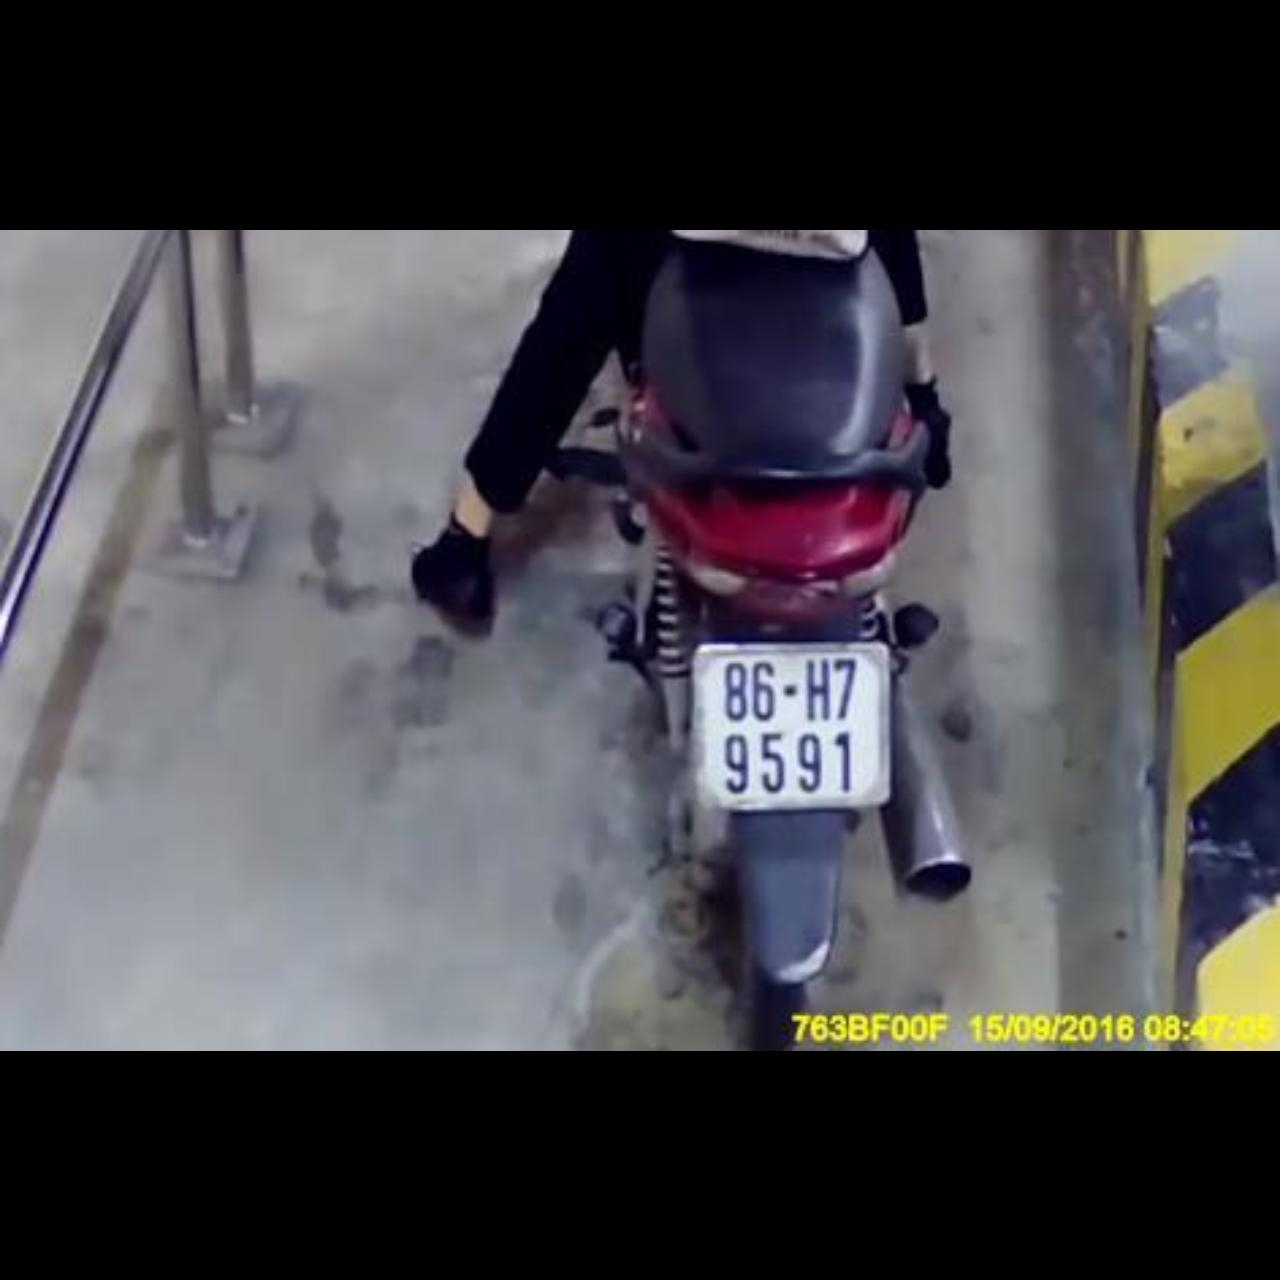bienso: (689, 639, 892, 815)
